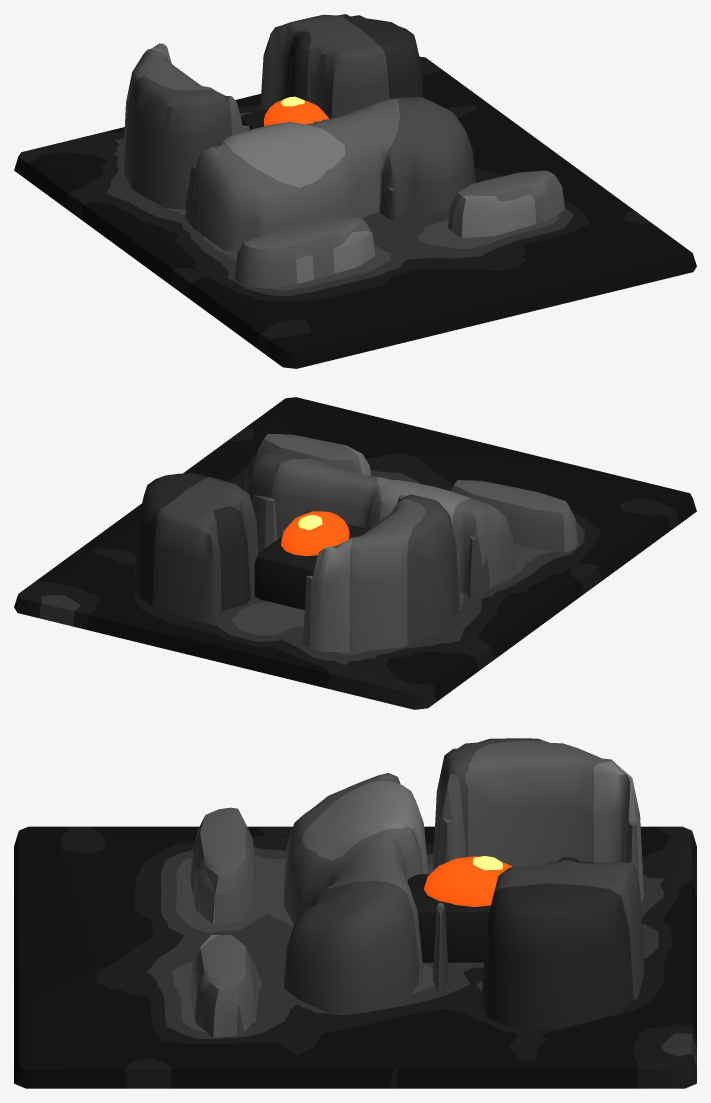
The model's file is deli_floor_eye.glb.
3 renders of one model, top to bottom at view 1: azimuth 30°, elevation 25°; view 2: azimuth 150°, elevation 25°; view 3: azimuth 270°, elevation 25°, orthographic. The views are drawn at different scales.
Visible parts, largest first — view 1: floor, hood, pillar_right, steps, pillar_left, lens; view 2: floor, pillar_left, pillar_right, hood, steps, socket, lens; view 3: floor, hood, pillar_right, pillar_left, steps, socket, lens.
Part boxes in pixels (x1=…): floor: x1=14, y1=56, x2=696, y2=368; hood: x1=185, y1=97, x2=475, y2=251; pillar_right: x1=260, y1=14, x2=423, y2=118; steps: x1=234, y1=170, x2=564, y2=288; pillar_left: x1=122, y1=43, x2=249, y2=209; lens: x1=263, y1=100, x2=329, y2=126; floor: x1=14, y1=397, x2=696, y2=709; pillar_left: x1=303, y1=494, x2=459, y2=652; pillar_right: x1=134, y1=473, x2=277, y2=625; hood: x1=244, y1=452, x2=516, y2=599; steps: x1=257, y1=433, x2=578, y2=552; socket: x1=254, y1=524, x2=367, y2=610; lens: x1=281, y1=511, x2=349, y2=555; floor: x1=14, y1=826, x2=696, y2=1088; hood: x1=284, y1=773, x2=428, y2=1012; pillar_right: x1=432, y1=857, x2=644, y2=1029; pillar_left: x1=432, y1=738, x2=644, y2=903; steps: x1=189, y1=807, x2=255, y2=1037; socket: x1=407, y1=874, x2=490, y2=962; lens: x1=424, y1=856, x2=512, y2=906.
Size of the model in its own units: 24 by 6.64 by 28.
